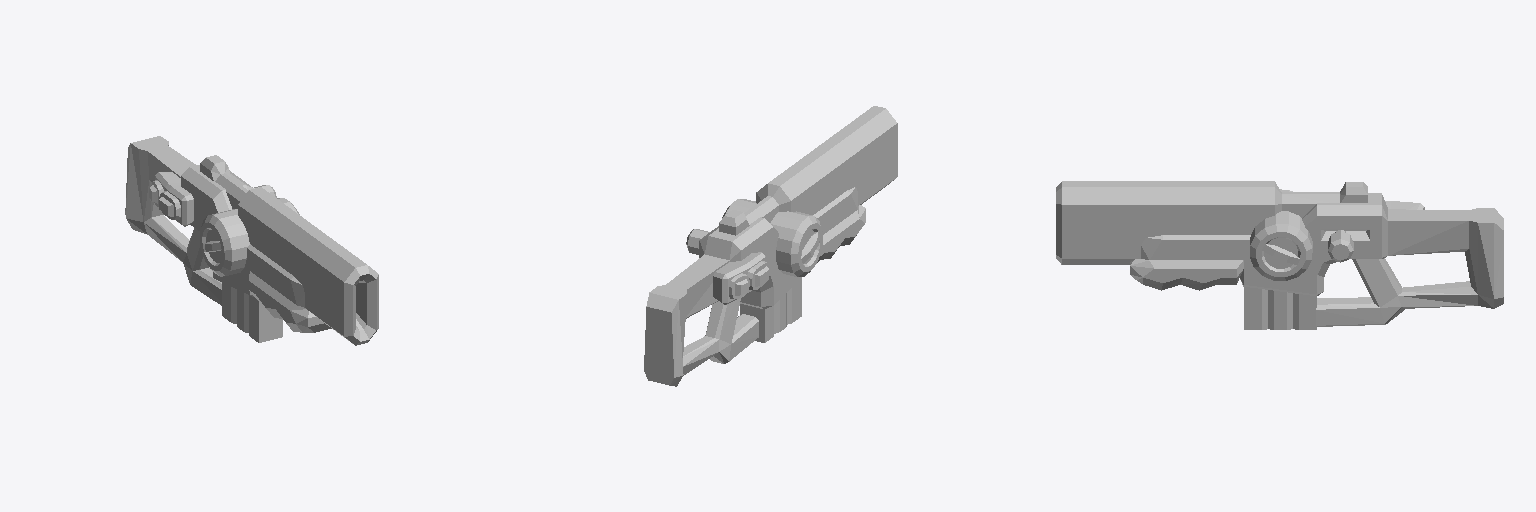
Rendered from SpaceRanger_Rifle.obj.
3 renders of one model, left to right at view 1: azimuth 30°, elevation 25°; view 2: azimuth 150°, elevation 25°; view 3: azimuth 270°, elevation 25°, orthographic.
Visible parts, largest first — view 1: SpaceRanger_Rifle; view 2: SpaceRanger_Rifle; view 3: SpaceRanger_Rifle.
Part boxes in pixels (left/top/right/bottom): SpaceRanger_Rifle: left=125, top=136, right=378, bottom=345; SpaceRanger_Rifle: left=644, top=106, right=897, bottom=386; SpaceRanger_Rifle: left=1056, top=181, right=1503, bottom=329.
Bounding box in the file's own units: 0.3785 × 0.5418 × 1.57.